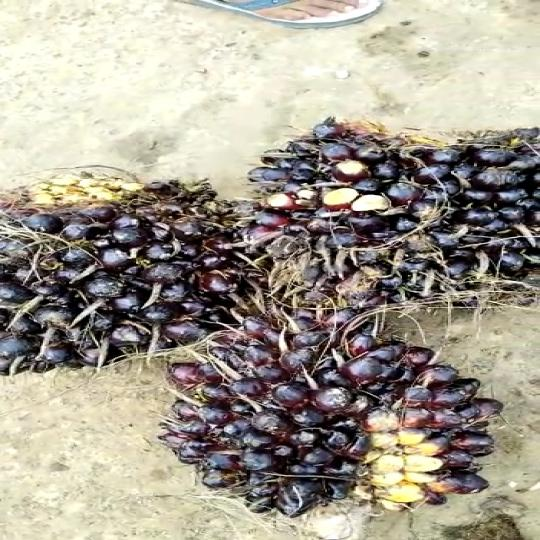mentah: (144, 307, 510, 524), (219, 110, 540, 318), (0, 165, 264, 378)
